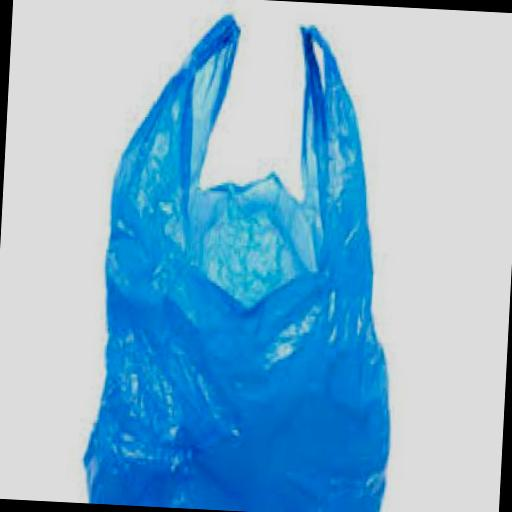plastic: (77, 5, 408, 512)
